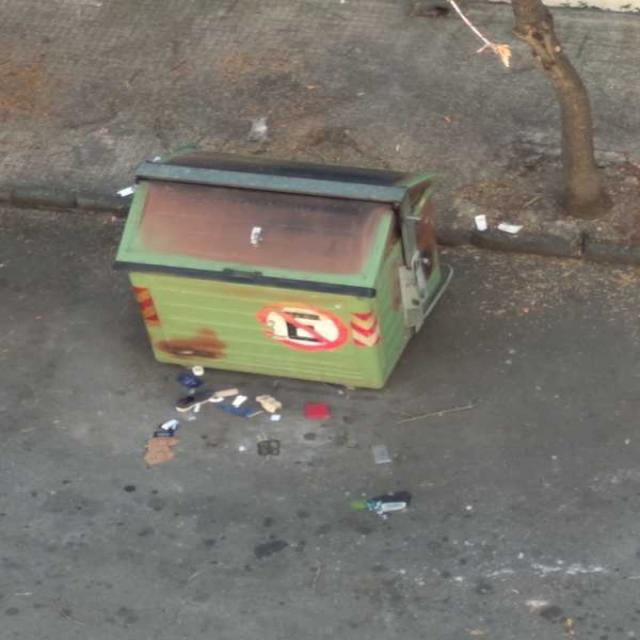c: (456, 215, 538, 242)
garbage: (137, 360, 340, 465), (426, 3, 522, 84), (232, 102, 298, 164)
